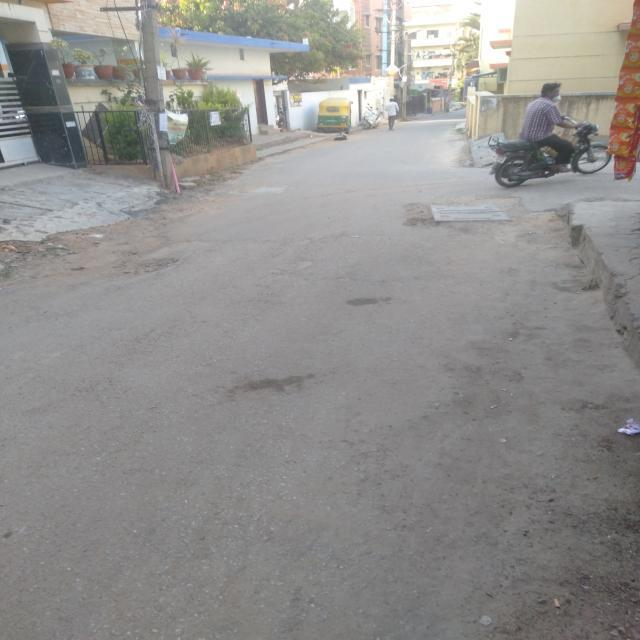auto_back: (312, 94, 356, 138)
